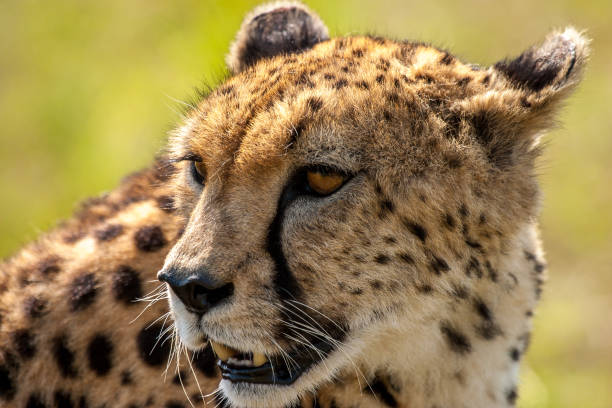cheetah: (114, 1, 602, 408)
